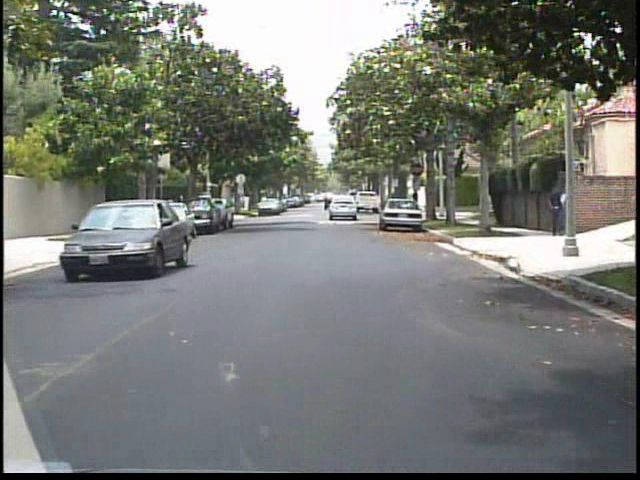person: (544, 179, 564, 240), (163, 191, 179, 232)
